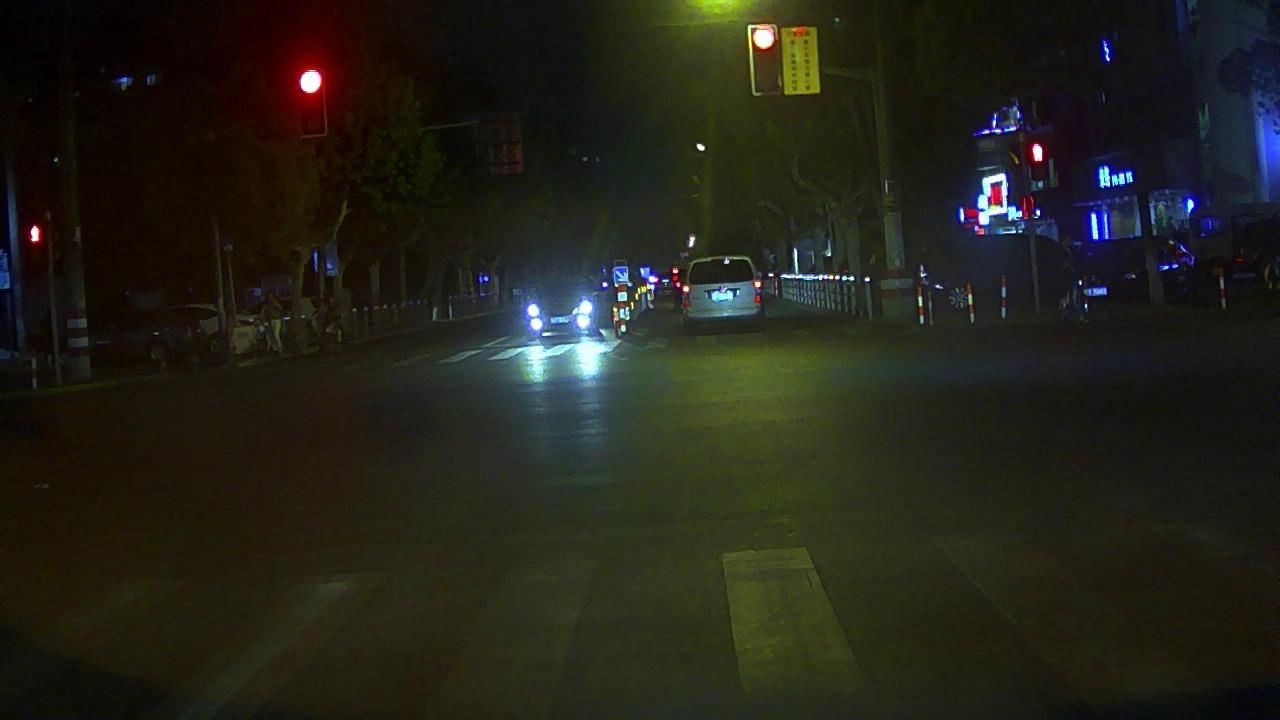traffic_light: (293, 66, 326, 133), (748, 27, 780, 93)
